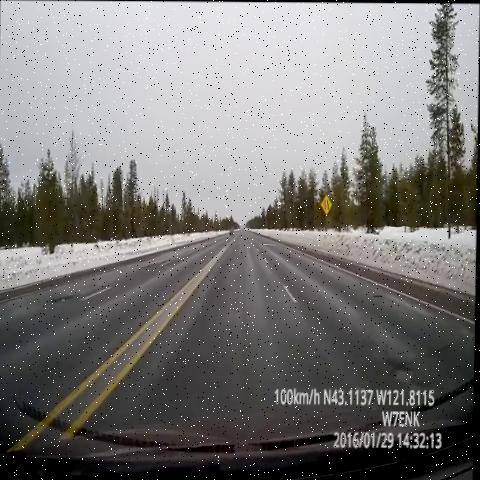pothole: (384, 355, 423, 389), (138, 253, 176, 280), (52, 290, 78, 309), (369, 284, 388, 307), (260, 239, 279, 255)
